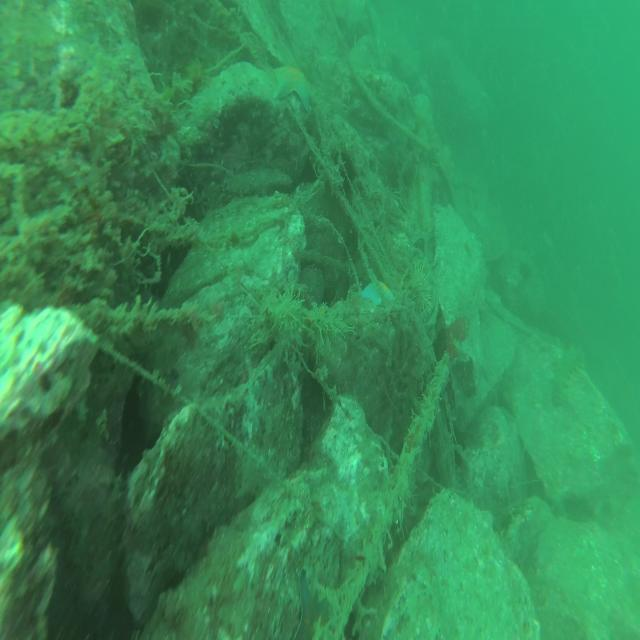echinus: (411, 257, 435, 328)
holothurian: (548, 333, 588, 405)
starfish: (290, 569, 334, 640), (272, 60, 314, 111), (360, 274, 396, 310)
